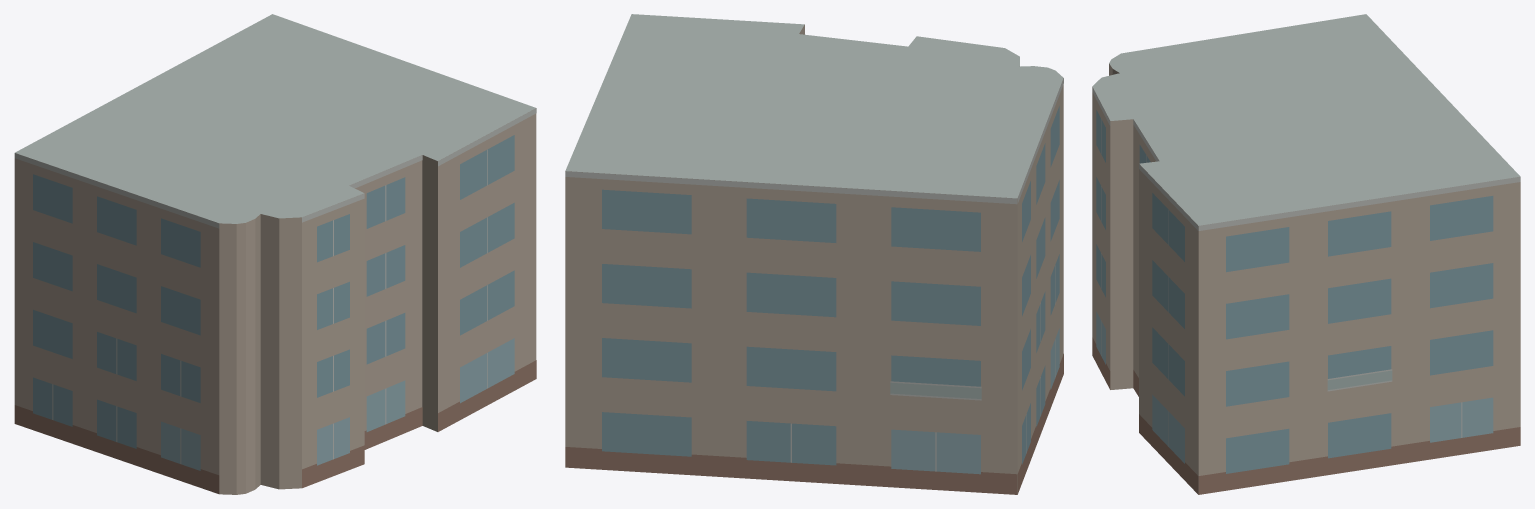
File: survey-upis-32918255.glb
3 renders of one model, left to right at view 1: azimuth 30°, elevation 25°; view 2: azimuth 150°, elevation 25°; view 3: azimuth 270°, elevation 25°, orthographic. The views are drawn at different scales.
Parts seen in each view (by area): view 1: survey-upis-32918255.tmp; view 2: survey-upis-32918255.tmp; view 3: survey-upis-32918255.tmp.
Part boxes in pixels (bbox=[...]): survey-upis-32918255.tmp: bbox=[14, 14, 536, 494]; survey-upis-32918255.tmp: bbox=[565, 14, 1063, 494]; survey-upis-32918255.tmp: bbox=[1092, 14, 1520, 494].
Bounding box in the file's own units: 20.95 × 12.4 × 17.9.
